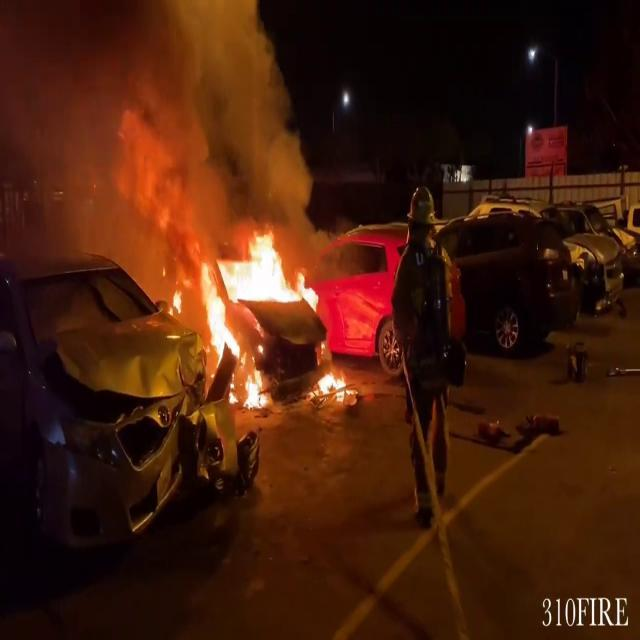Fire: (188, 228, 316, 408), (314, 366, 354, 404)
Smoke: (0, 0, 322, 258)
